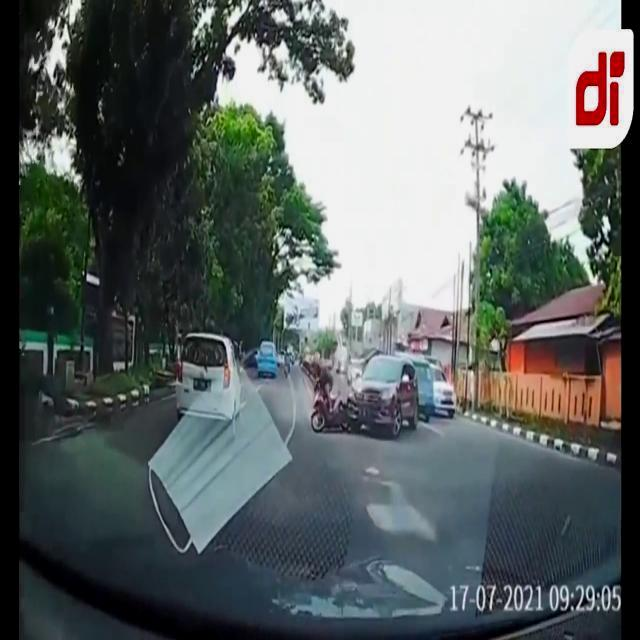accident: (312, 352, 418, 440)
non-accident: (175, 333, 278, 439), (244, 338, 296, 380)
